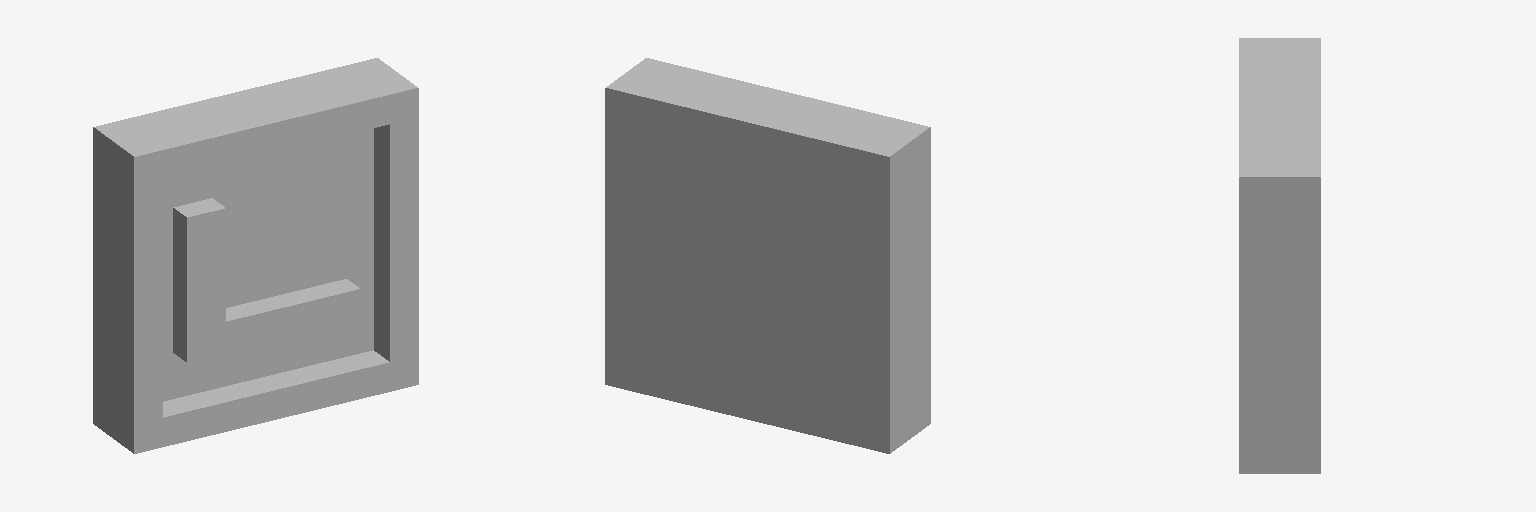
The model's file is tinker.obj.
3 views of the same model, side by side, from view 1: azimuth 30°, elevation 25°; view 2: azimuth 150°, elevation 25°; view 3: azimuth 270°, elevation 25° (orthographic).
Visible parts, largest first — view 1: obj_0; view 2: obj_0; view 3: obj_0.
Part boxes in pixels (bbox=[...]): obj_0: bbox=[93, 58, 418, 453]; obj_0: bbox=[605, 58, 930, 453]; obj_0: bbox=[1239, 38, 1320, 473].
Size of the model in its own units: 20 by 20 by 5.